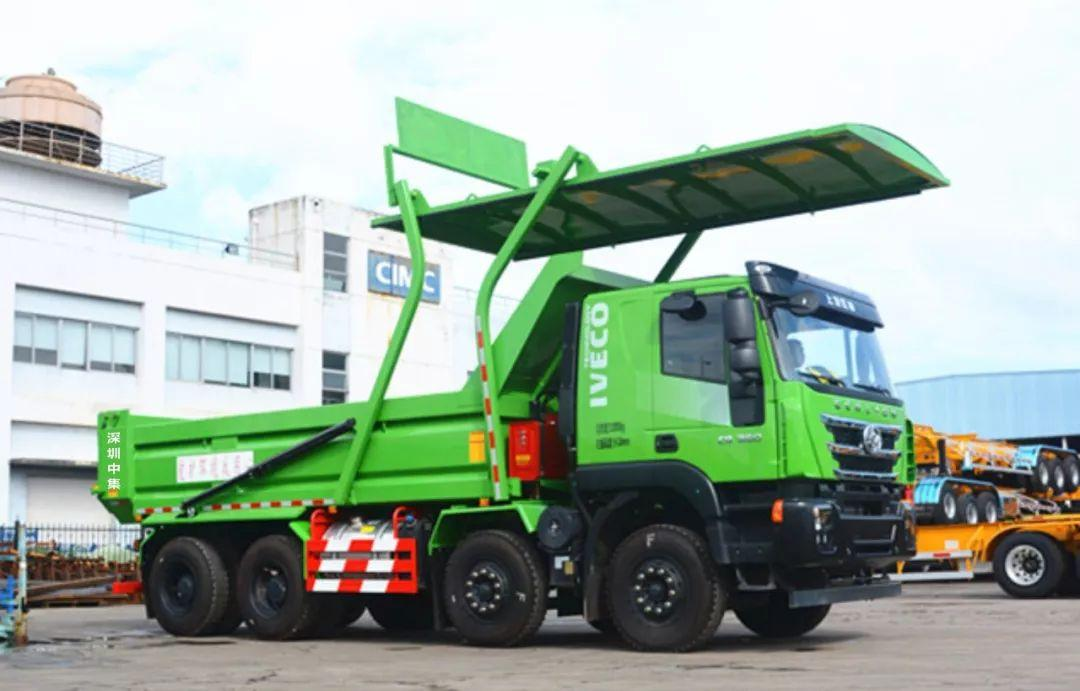truck: (75, 39, 948, 660)
